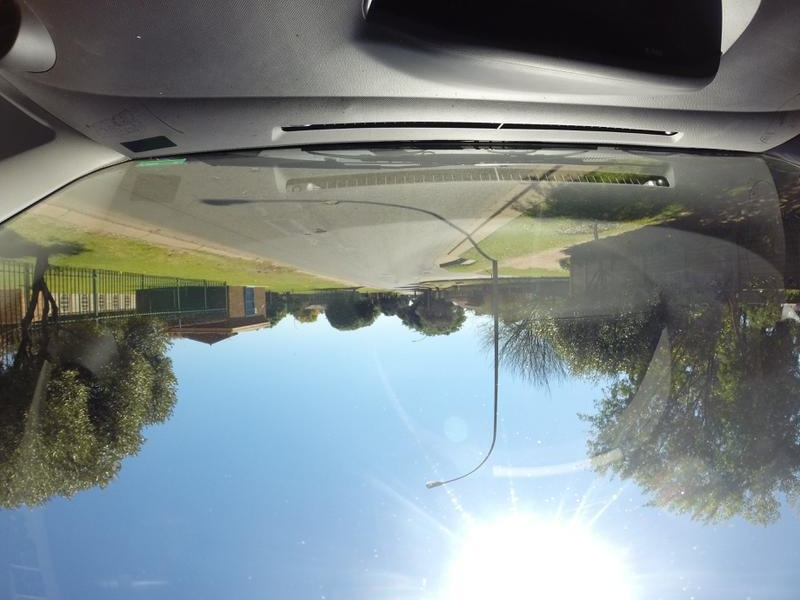pothole: (306, 222, 323, 235), (322, 196, 342, 207)
